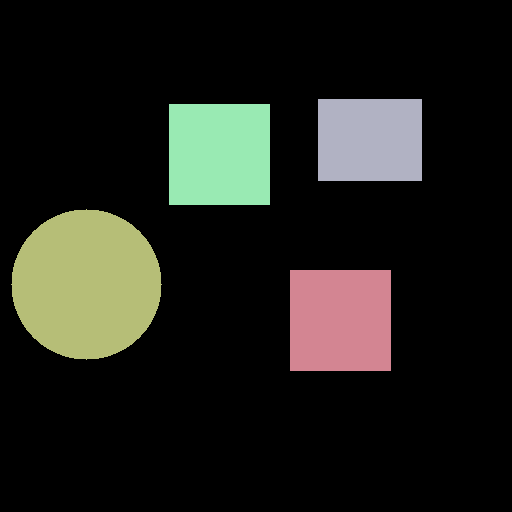circle: (11, 209, 161, 359)
rectangle: (318, 99, 421, 180)
square: (290, 270, 390, 370), (169, 104, 269, 204)
